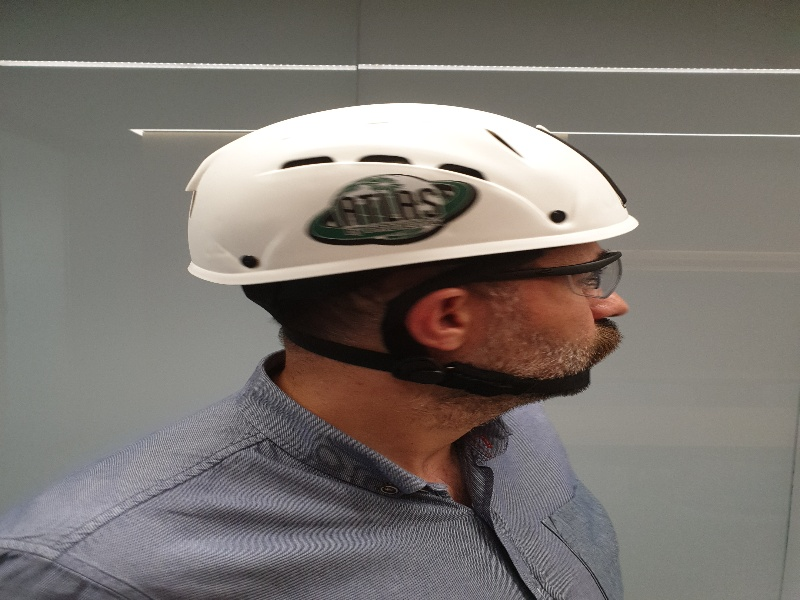Baret: (187, 101, 640, 253)
Gozluk: (428, 251, 620, 300)
